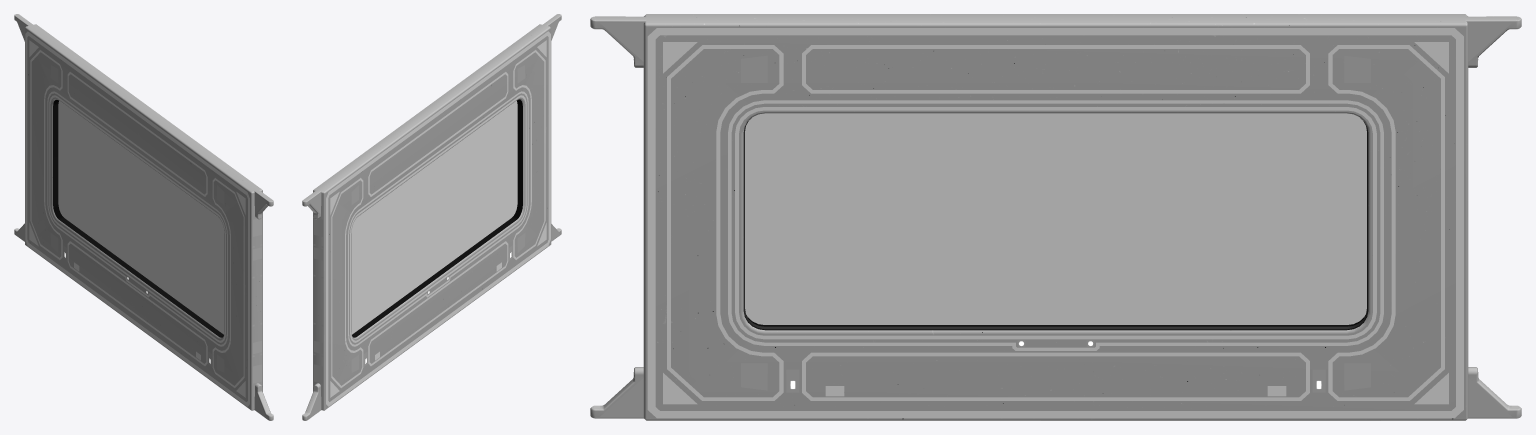
Rendered from SM_IndoorPartition_1_Merged.fbx.
3 renders of one model, left to right at view 1: azimuth 30°, elevation 25°; view 2: azimuth 150°, elevation 25°; view 3: azimuth 270°, elevation 25°, orthographic. The views are drawn at different scales.
Parts seen in each view (by area): view 1: SM_IndoorPartition_1_Merged_LOD0; view 2: SM_IndoorPartition_1_Merged_LOD0; view 3: SM_IndoorPartition_1_Merged_LOD0.
Part boxes in pixels (box(x1,y1,x2,y2)): SM_IndoorPartition_1_Merged_LOD0: box(14, 14, 273, 420); SM_IndoorPartition_1_Merged_LOD0: box(302, 14, 561, 420); SM_IndoorPartition_1_Merged_LOD0: box(590, 14, 1521, 420).
Bounding box in the file's own units: 19.58 × 678 × 320.
